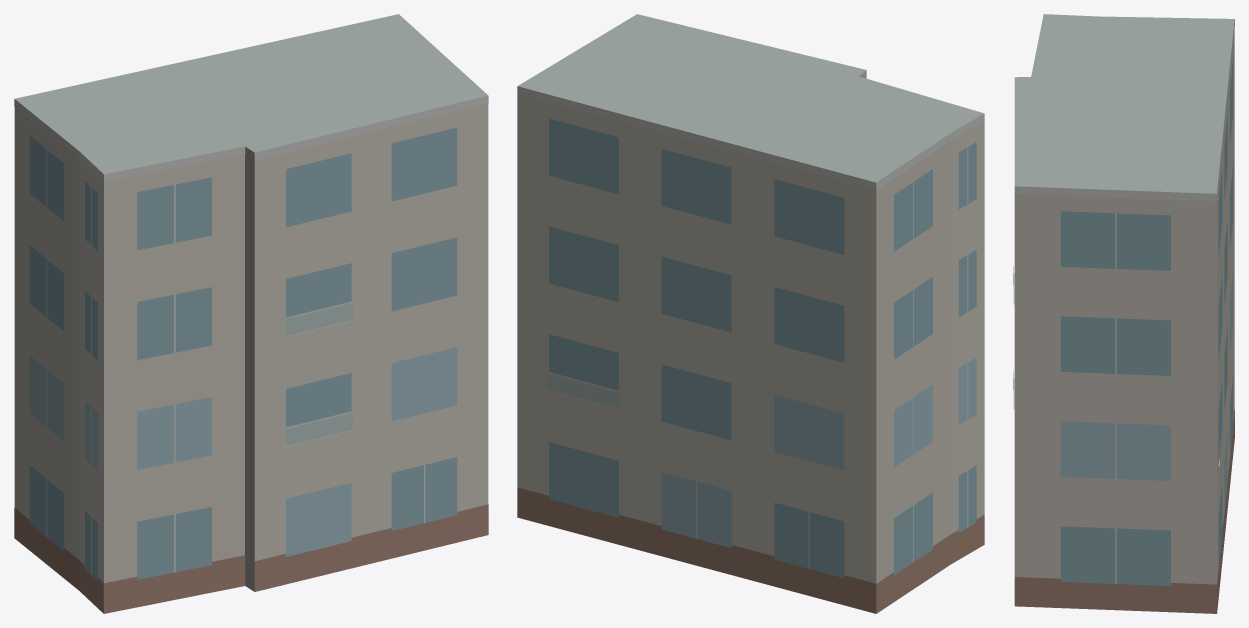
The model's file is survey-upis-32469919.glb.
3 views of the same model, side by side, from view 1: azimuth 30°, elevation 25°; view 2: azimuth 150°, elevation 25°; view 3: azimuth 270°, elevation 25° (orthographic). The views are drawn at different scales.
Parts seen in each view (by area): view 1: survey-upis-32469919.tmp; view 2: survey-upis-32469919.tmp; view 3: survey-upis-32469919.tmp.
Part boxes in pixels (x1,y1,x2,y2): survey-upis-32469919.tmp: (14,14,488,613); survey-upis-32469919.tmp: (517,14,984,613); survey-upis-32469919.tmp: (1013,14,1234,613).
Bounding box in the file's own units: 12.31 × 13.4 × 6.41.
